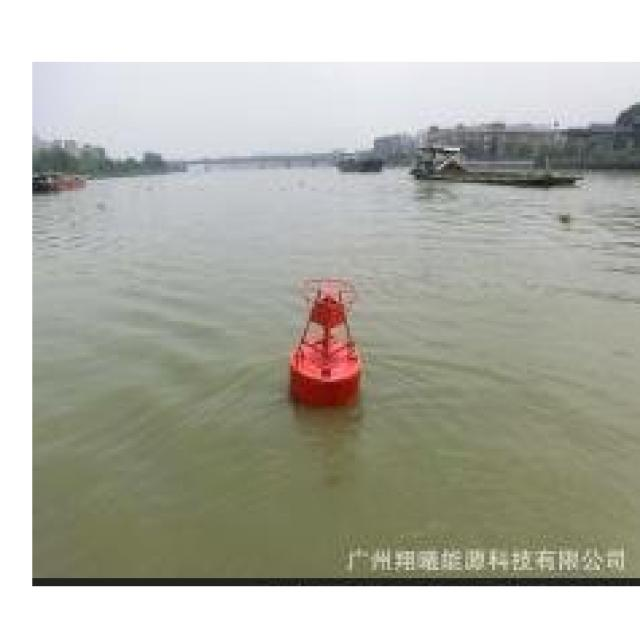buoy: (284, 274, 363, 404)
